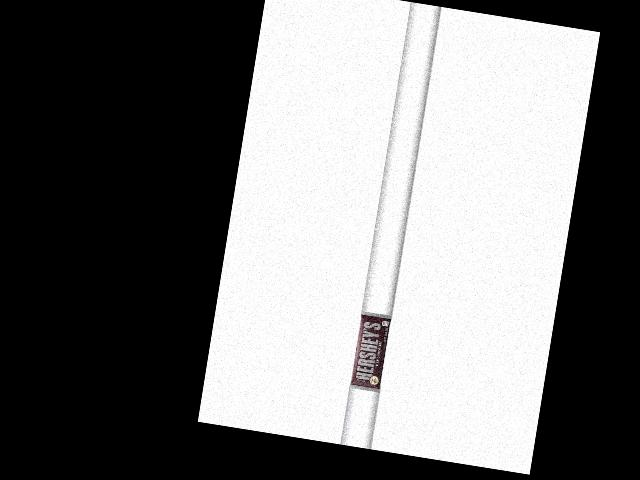chocolate: (350, 311, 395, 391)
